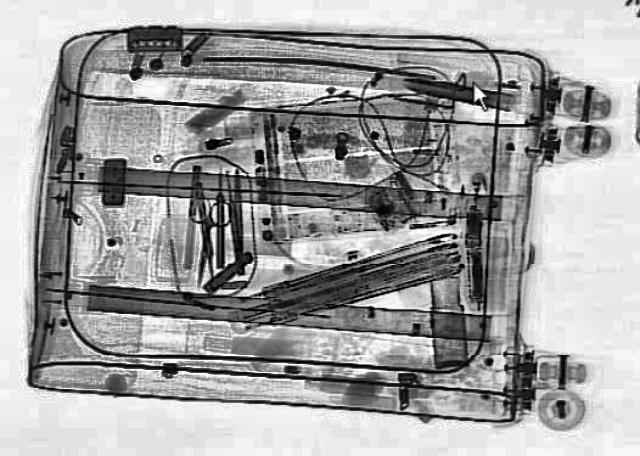Scissors: (176, 196, 232, 288)
